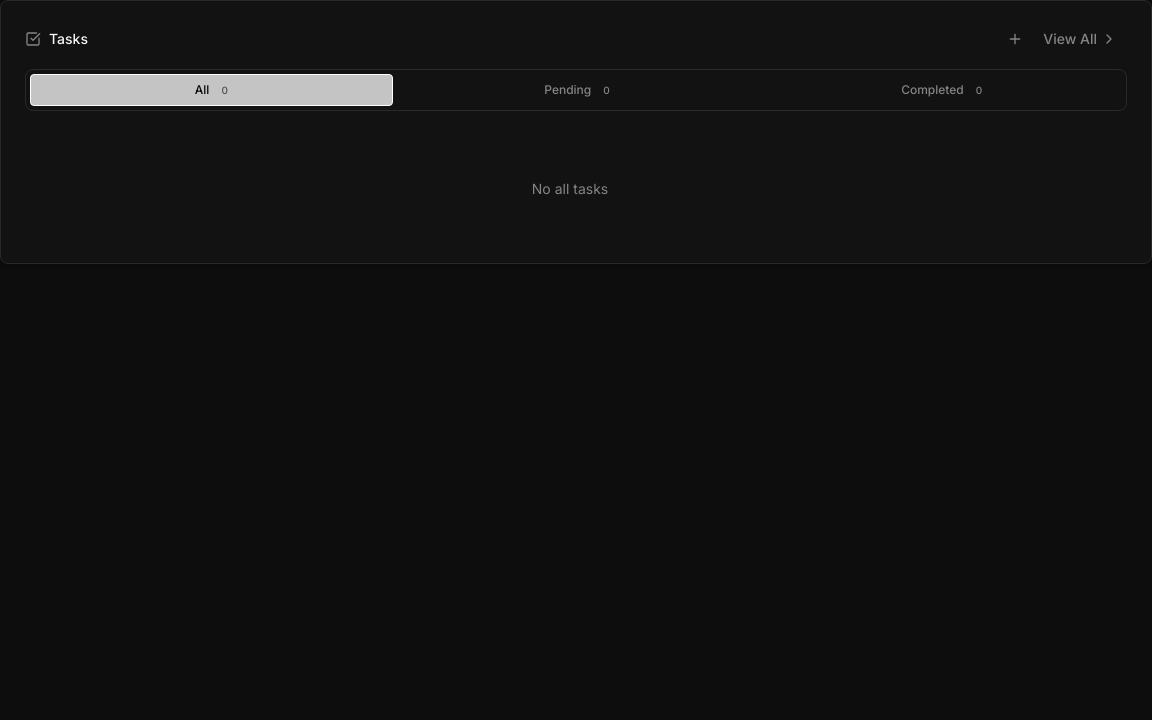
it: TodoWidget › opens add todo dialog when plus button is clicked
Click the button named "Add new task": [1015, 39] box 1001,25 -> 1029,53
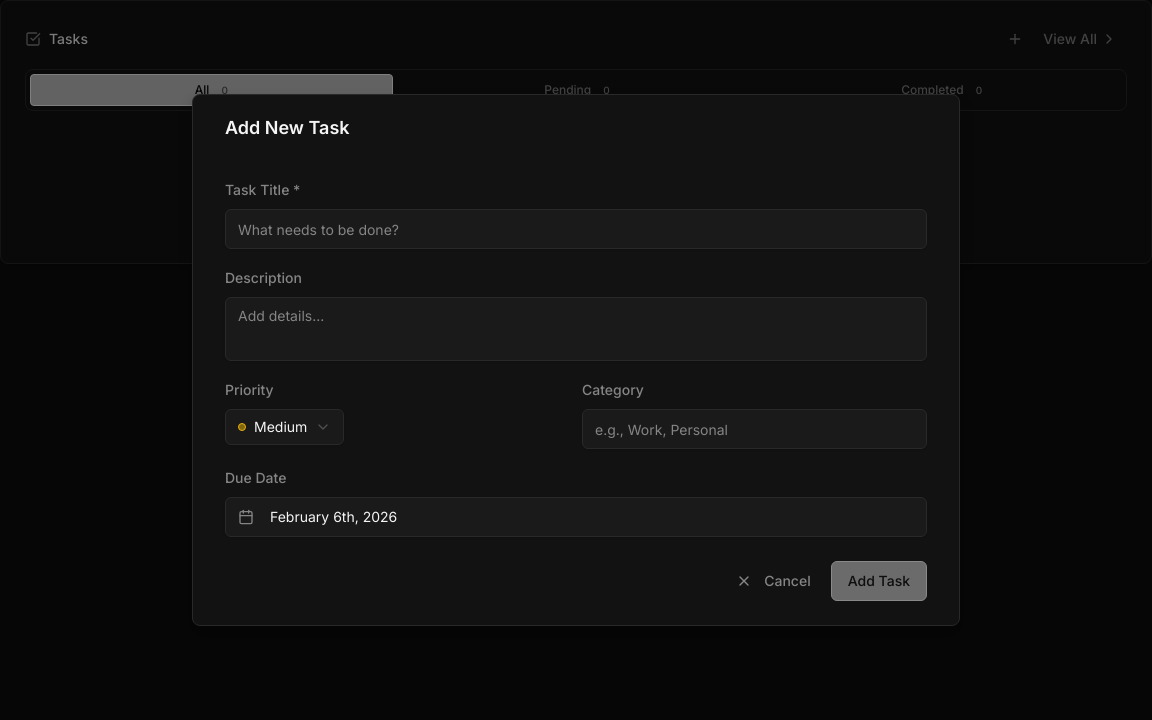
Now the heading "Add New Task" is shown, box 225,117 -> 350,138
